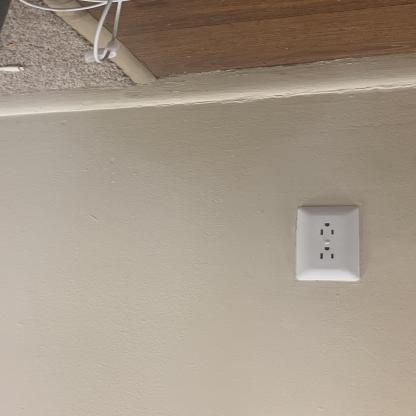OUTLET: (294, 205, 360, 280)
